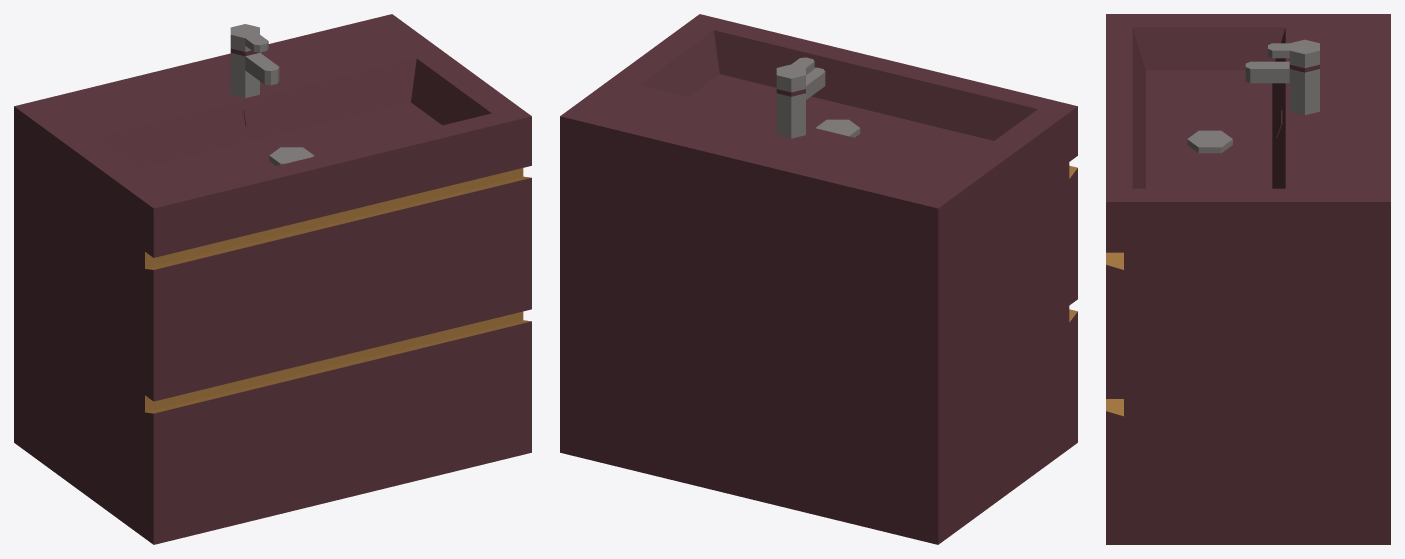
Rendered from cabinet-bathroom-sink.fbx.
3 renders of one model, left to right at view 1: azimuth 30°, elevation 25°; view 2: azimuth 150°, elevation 25°; view 3: azimuth 270°, elevation 25°, orthographic.
Visible parts, largest first — view 1: cabinet-bathroom-sink; view 2: cabinet-bathroom-sink; view 3: cabinet-bathroom-sink.
Part boxes in pixels (bbox=[...]): cabinet-bathroom-sink: bbox=[14, 14, 531, 544]; cabinet-bathroom-sink: bbox=[560, 14, 1077, 544]; cabinet-bathroom-sink: bbox=[1106, 14, 1390, 544].
Bounding box in the file's own units: 0.8 × 0.8012 × 0.512.
